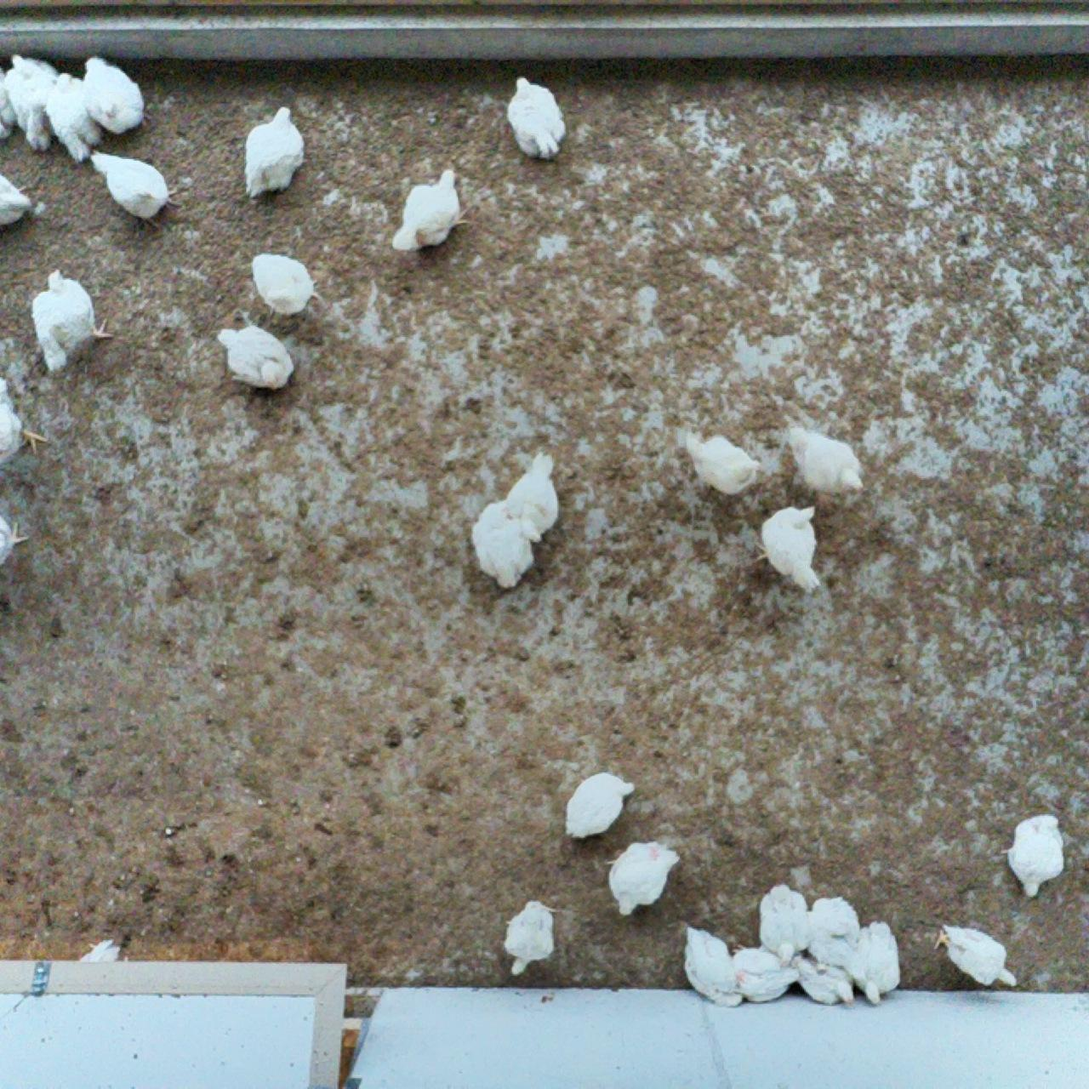chicken: (30, 266, 116, 375), (785, 421, 873, 511), (88, 147, 185, 227), (385, 164, 471, 254), (237, 102, 311, 202), (992, 809, 1070, 903), (931, 918, 1023, 994), (602, 837, 683, 920), (751, 500, 821, 594), (469, 496, 538, 590), (213, 322, 300, 396), (3, 50, 63, 153), (680, 429, 766, 499), (504, 71, 570, 162), (558, 767, 638, 842), (42, 70, 105, 162), (679, 922, 744, 1011), (505, 447, 564, 543), (498, 895, 563, 981), (82, 54, 148, 138), (809, 893, 866, 987), (249, 250, 323, 320), (0, 369, 50, 469), (757, 879, 811, 967), (851, 918, 904, 1006), (730, 939, 798, 1007), (792, 952, 861, 1010), (0, 170, 36, 233), (0, 511, 34, 573), (0, 60, 18, 141)
